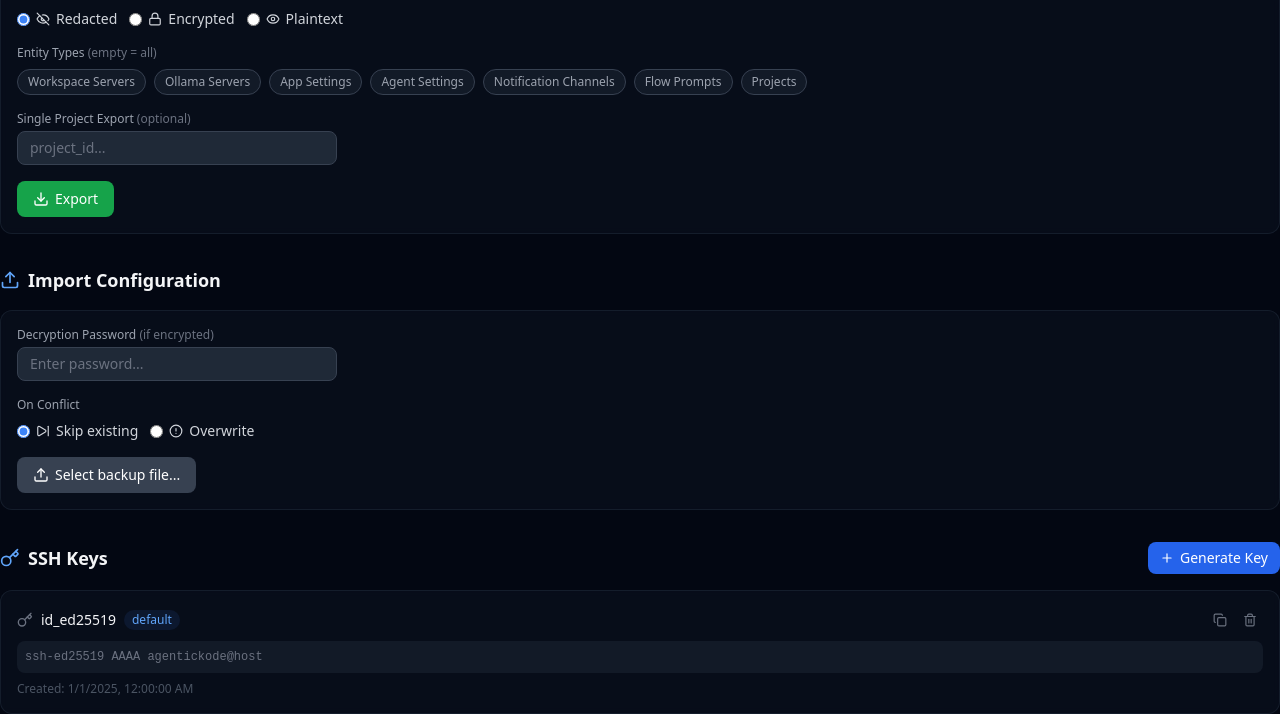
Scenario: Settings › shows generate key form when button clicked
(page scrolled)
What coordinates should you click on to do the following:
click the button "Generate Key"
I would click on:
 (1214, 558)
Its box is top-left (1148, 542), bottom-right (1279, 574).
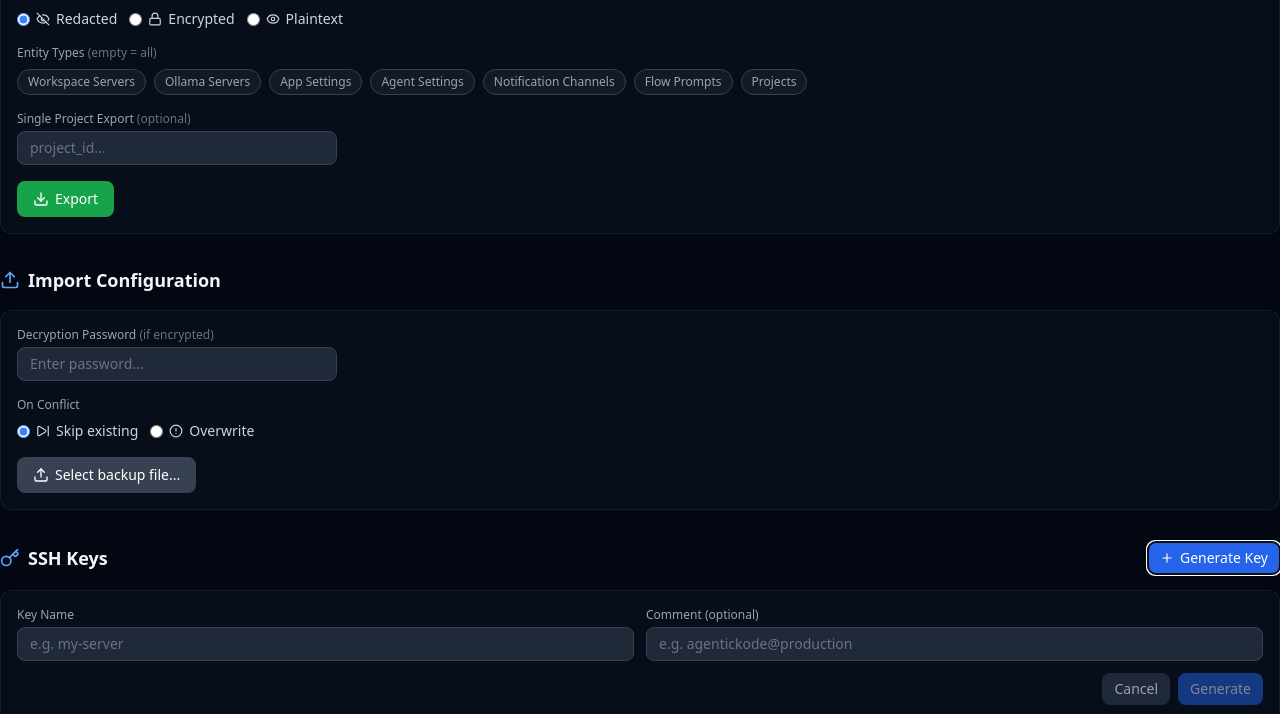
Expected: the field with placeholder "e.g. my-server" is shown, top-left (17, 627), bottom-right (634, 661)
